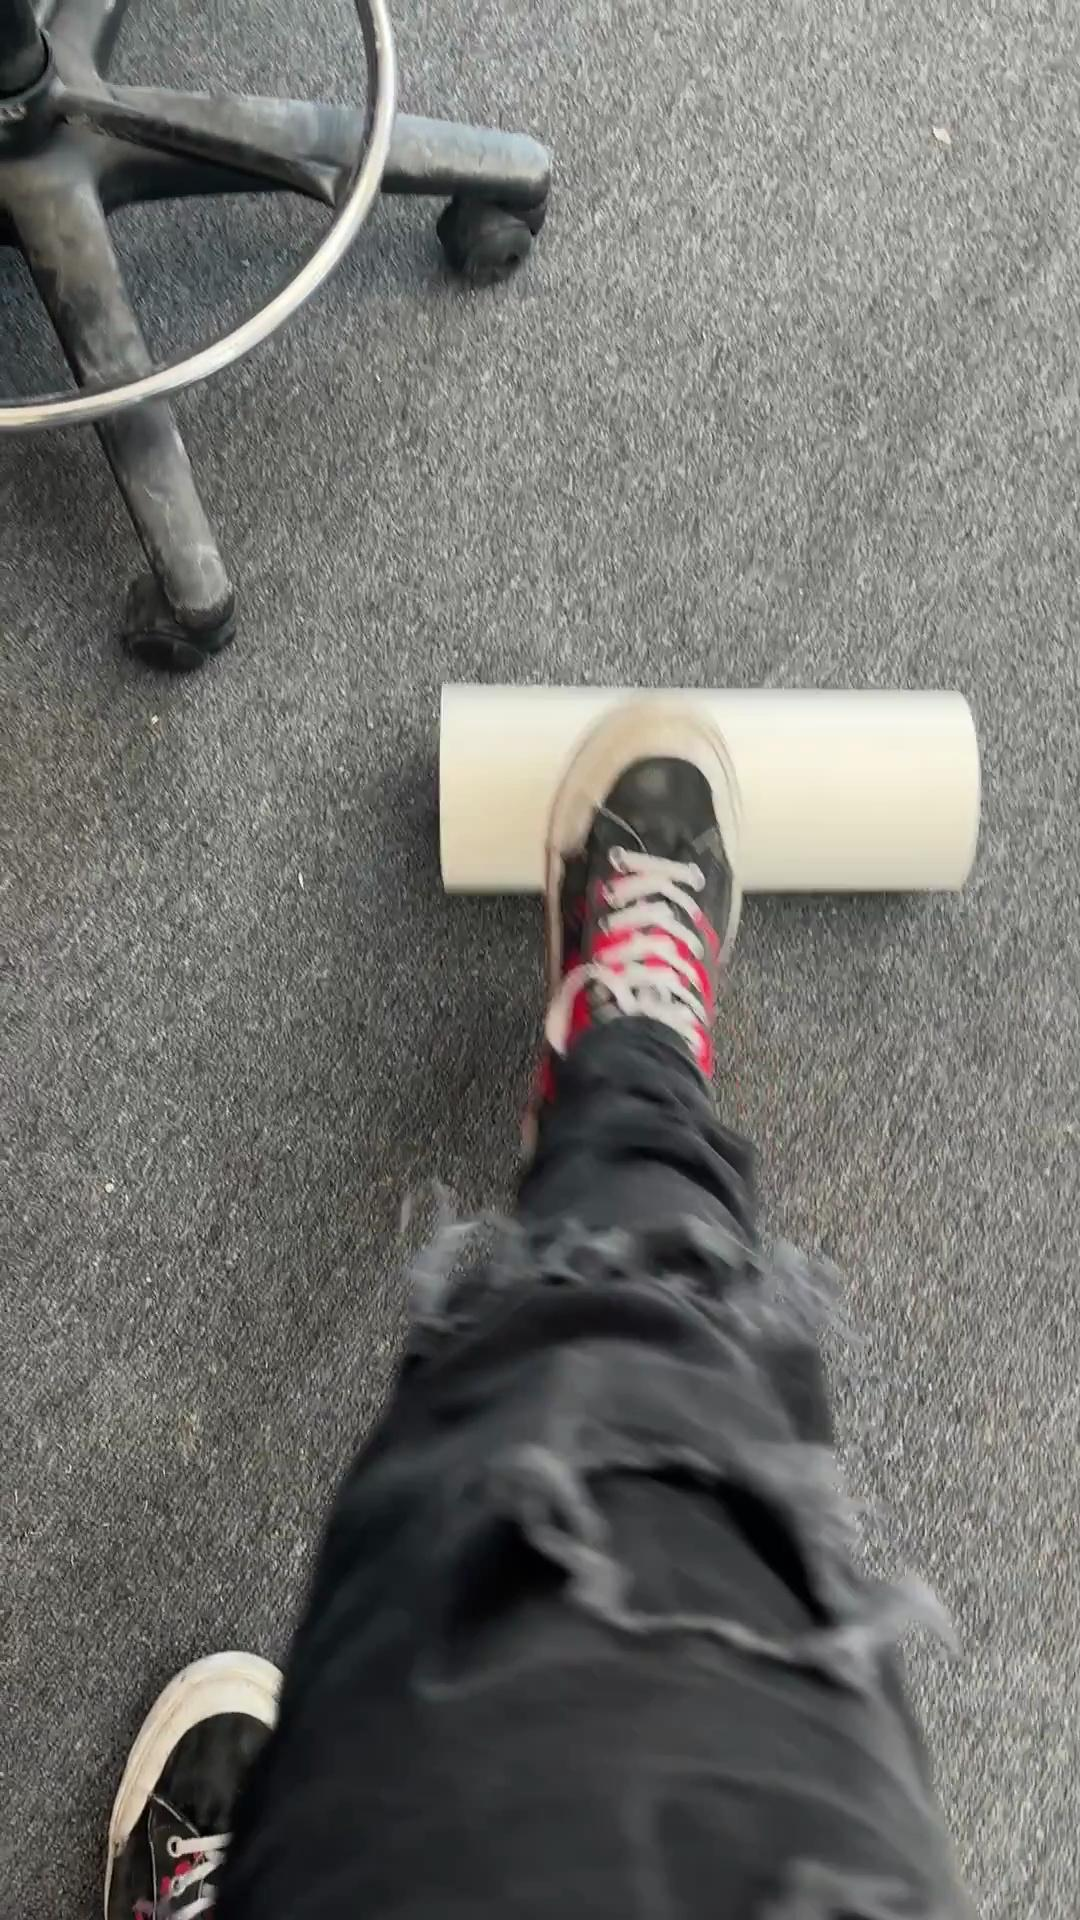CORAL: (434, 679, 982, 898)
